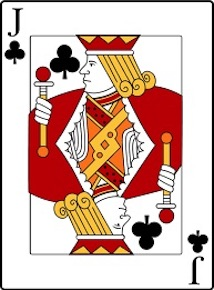JackOfClubs: (3, 2, 214, 289)
